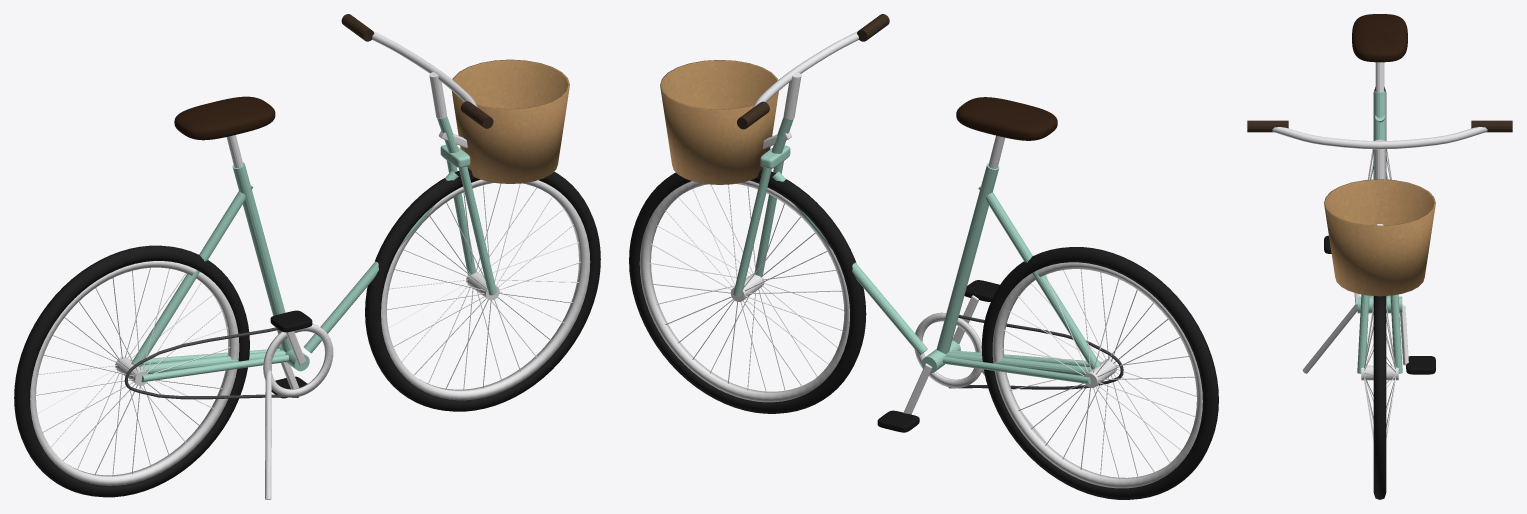
The model's file is step-through-mint-basket.glb.
The picture shows the model from 3 angles, left to right: view 1: azimuth 30°, elevation 25°; view 2: azimuth 150°, elevation 25°; view 3: azimuth 270°, elevation 25°; orthographic projection. The views are drawn at different scales.
Parts seen in each view (by area): view 1: chrome, tyre, wicker, paint_primary_frame, saddle_leather, chain_dark, grip_rubber, pedal; view 2: chrome, tyre, paint_primary_frame, wicker, saddle_leather, pedal, chain_dark, grip_rubber; view 3: wicker, chrome, tyre, saddle_leather, paint_primary_frame, grip_rubber, pedal.
Boxes of the visible parts, x1=… form: chrome: x1=30, y1=31, x2=590, y2=499; tyre: x1=14, y1=168, x2=600, y2=497; wicker: x1=452, y1=59, x2=569, y2=183; paint_primary_frame: x1=130, y1=116, x2=496, y2=382; saddle_leather: x1=174, y1=96, x2=275, y2=140; chain_dark: x1=124, y1=327, x2=298, y2=399; grip_rubber: x1=341, y1=14, x2=493, y2=128; pedal: x1=270, y1=310, x2=312, y2=398; chrome: x1=639, y1=31, x2=1202, y2=488; tyre: x1=629, y1=169, x2=1218, y2=499; paint_primary_frame: x1=733, y1=117, x2=1101, y2=384; wicker: x1=660, y1=60, x2=778, y2=184; saddle_leather: x1=956, y1=97, x2=1057, y2=140; pedal: x1=877, y1=280, x2=999, y2=432; chain_dark: x1=948, y1=315, x2=1123, y2=389; grip_rubber: x1=737, y1=14, x2=889, y2=129; wicker: x1=1324, y1=179, x2=1435, y2=296; chrome: x1=1272, y1=62, x2=1487, y2=440; tyre: x1=1373, y1=87, x2=1386, y2=499; saddle_leather: x1=1352, y1=14, x2=1407, y2=62; paint_primary_frame: x1=1357, y1=91, x2=1402, y2=373; grip_rubber: x1=1247, y1=120, x2=1512, y2=132; pedal: x1=1324, y1=235, x2=1435, y2=374.
Size of the model in its own units: 1.7 by 1.01 by 0.71.
Materials: 8 (5 with a texture image).
